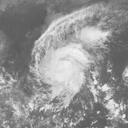cyclone: (39, 46, 89, 93)
